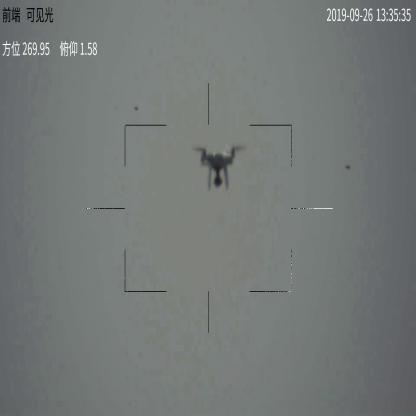uav: (192, 145, 244, 189)
